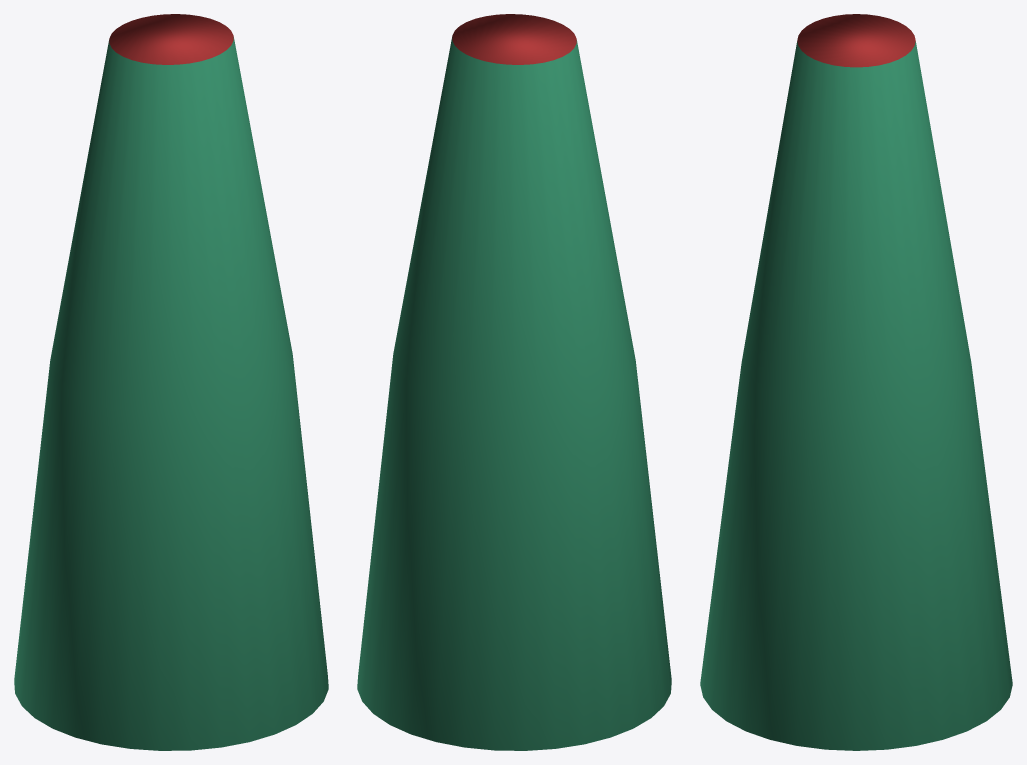
Rendered from Mushroom_01_Steam.obj.
3 views of the same model, side by side, from view 1: azimuth 30°, elevation 25°; view 2: azimuth 150°, elevation 25°; view 3: azimuth 270°, elevation 25° (orthographic).
Parts seen in each view (by area): view 1: Stem; view 2: Stem; view 3: Stem.
Part boxes in pixels (x1=…): Stem: x1=14, y1=14, x2=328, y2=750; Stem: x1=357, y1=14, x2=671, y2=750; Stem: x1=700, y1=14, x2=1012, y2=750.
Size of the model in its own units: 2.76 by 6.23 by 2.74.
